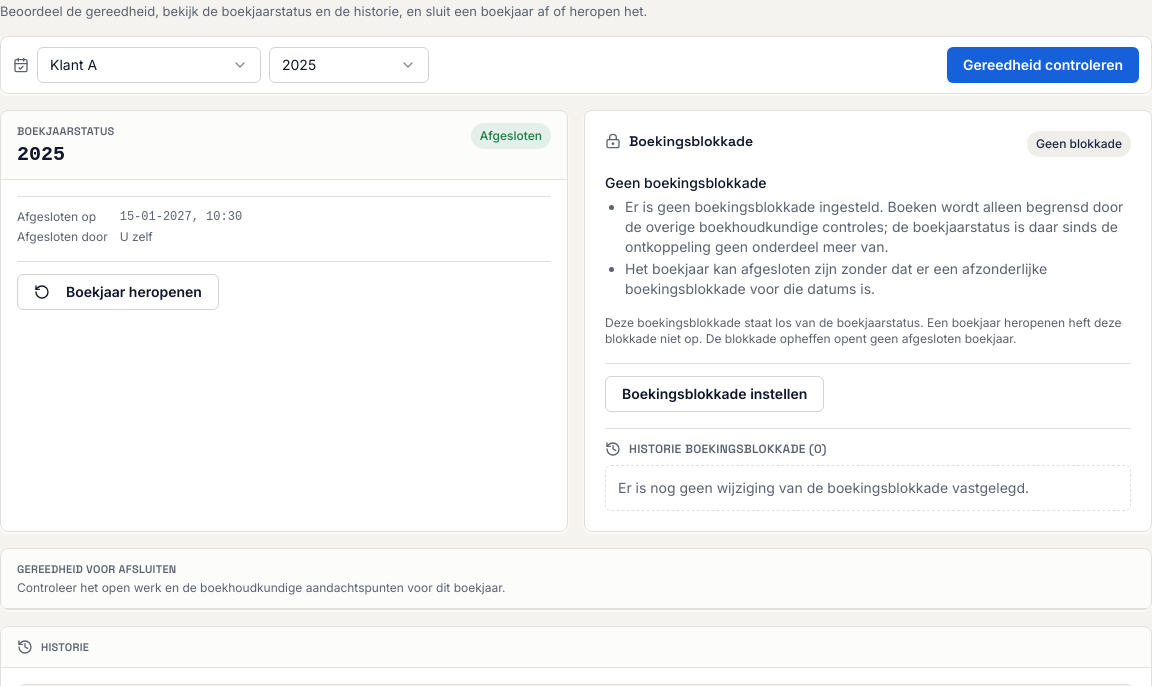
Scenario: Als de database weigert › 9c. een rolweigering van de database wordt als zodanig getoond
Click the button with test id "jaar-heropenen" at coordinates (118, 292), box [17,274,219,310]
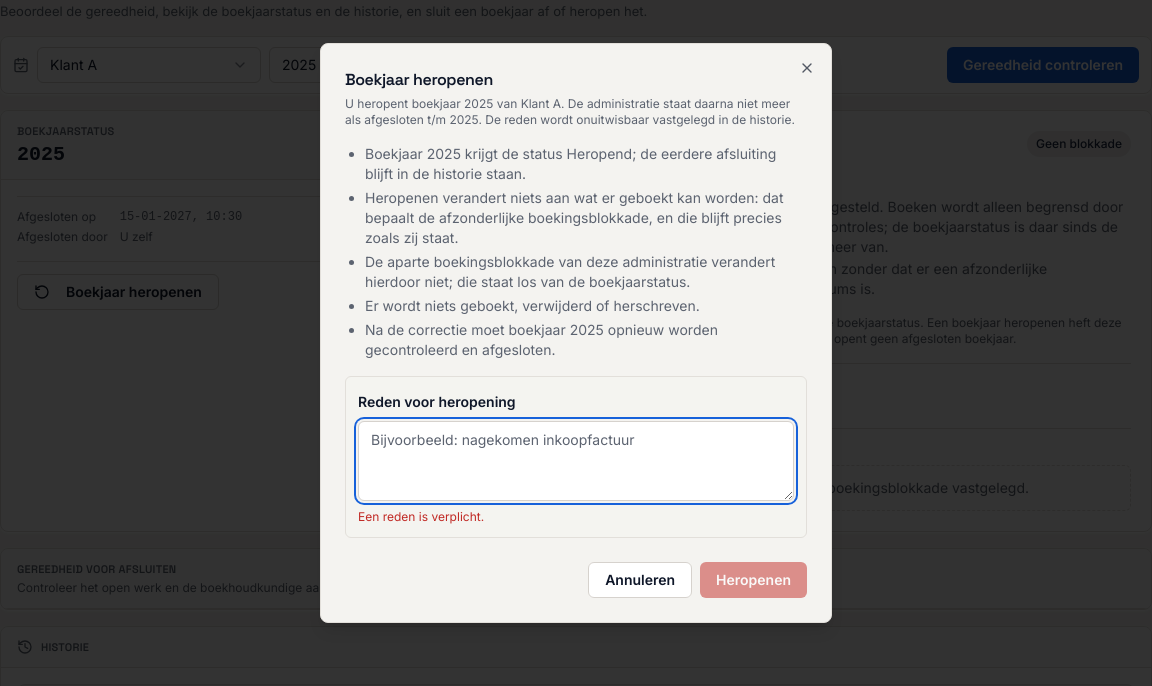
Type "Nagekomen inkoopfactuur" into the text box with test id "jaar-heropenen-reden" at coordinates (576, 461), box [358,421,794,501]
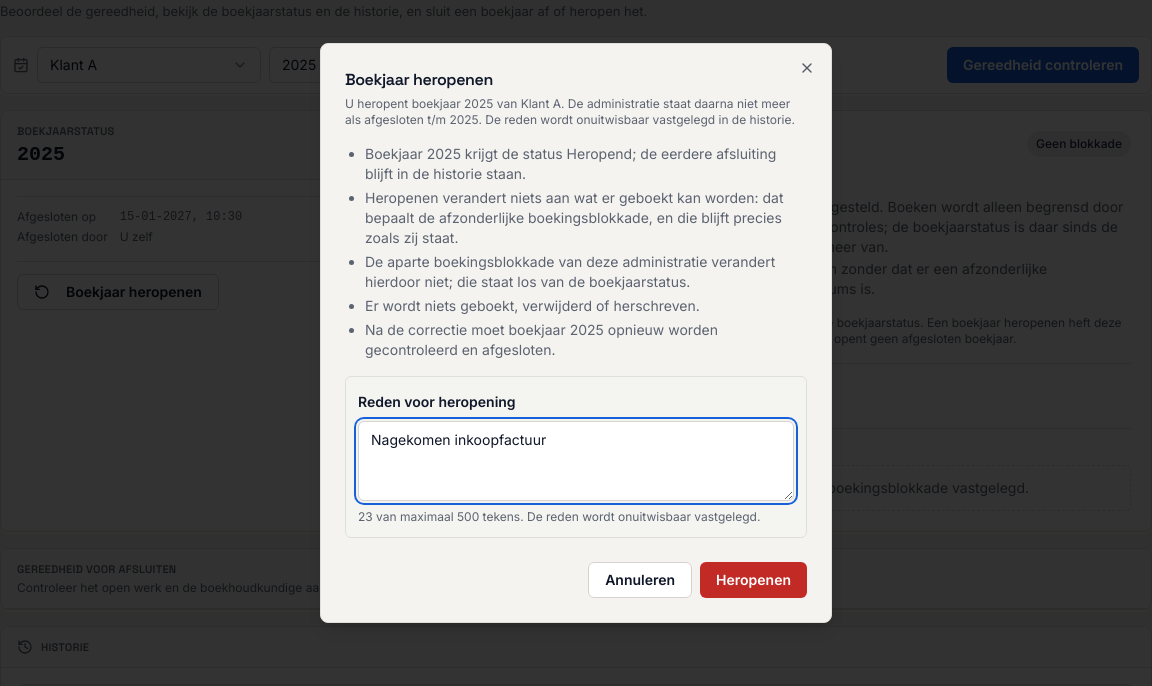
Click the button with test id "jaar-heropenen-bevestigen" at coordinates (754, 580), box [700,562,807,598]
(page scrolled)
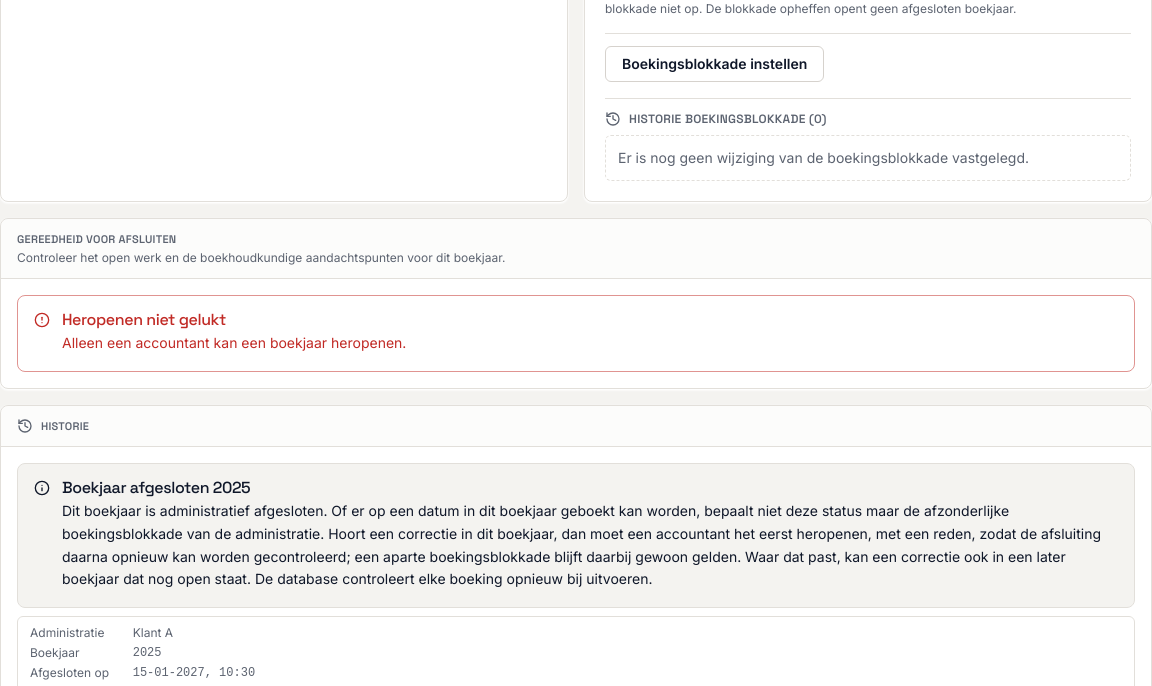
Expected: the element with test id "jaar-heropenfout" shows "accountant", [62,334,406,351]
